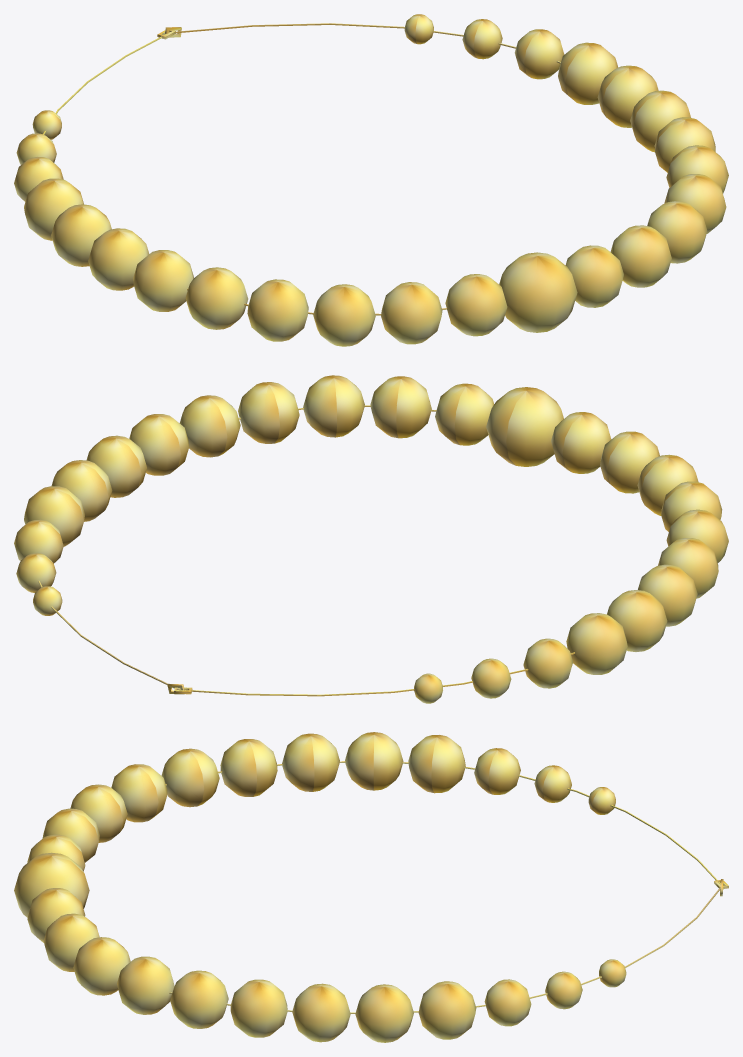
The model's file is necklace.FBX.
3 views of the same model, one above another, from view 1: azimuth 30°, elevation 25°; view 2: azimuth 150°, elevation 25°; view 3: azimuth 270°, elevation 25° (orthographic). The views are drawn at different scales.
Parts seen in each view (by area): view 1: Sphere014, Sphere009, Sphere011, Sphere010, Sphere012, Sphere013, Sphere008, Sphere016, Sphere007, Sphere015, Sphere023, Sphere006 (+14 smaller); view 2: Sphere014, Sphere017, Sphere016, Sphere018, Sphere005, Sphere019, Sphere015, Sphere013, Sphere020, Sphere006, Sphere012, Sphere021 (+14 smaller); view 3: Sphere014, Sphere006, Sphere022, Sphere019, Sphere021, Sphere020, Sphere007, Sphere023, Sphere008, Sphere005, Sphere018, Sphere009 (+14 smaller).
Part boxes in pixels (x1,y1,x2,y2): Sphere014: (499,252,577,332); Sphere009: (185,267,248,329); Sphere011: (313,284,375,346); Sphere010: (247,279,308,341); Sphere012: (381,282,442,344); Sphere013: (445,274,507,336); Sphere008: (133,250,193,311); Sphere016: (610,225,671,287); Sphere007: (88,228,149,290); Sphere015: (565,245,623,307); Sphere023: (558,42,618,104); Sphere006: (51,204,111,266); Sphere014: (486,387,563,466); Sphere017: (303,375,364,437); Sphere016: (370,376,431,438); Sphere018: (238,382,299,443); Sphere005: (566,613,627,674); Sphere019: (179,395,240,457); Sphere015: (435,383,494,445); Sphere013: (551,412,611,473); Sphere020: (129,414,188,475); Sphere006: (607,590,667,651); Sphere012: (600,431,659,493); Sphere021: (86,435,146,497); Sphere014: (14,852,89,917); Sphere006: (345,732,403,790); Sphere022: (355,984,413,1042); Sphere019: (170,970,228,1028); Sphere021: (292,983,350,1042); Sphere020: (230,979,287,1037); Sphere007: (282,733,339,791); Sphere023: (418,981,476,1039); Sphere008: (220,739,277,796); Sphere005: (408,735,465,793); Sphere018: (117,956,174,1014); Sphere009: (161,748,219,807).
Bounding box in the file's own units: 139 × 16 × 151.
Materials: 1 (1 with a texture image).
